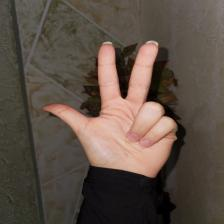three: (48, 40, 186, 176)
